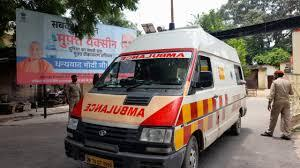ER: (64, 24, 246, 168)
